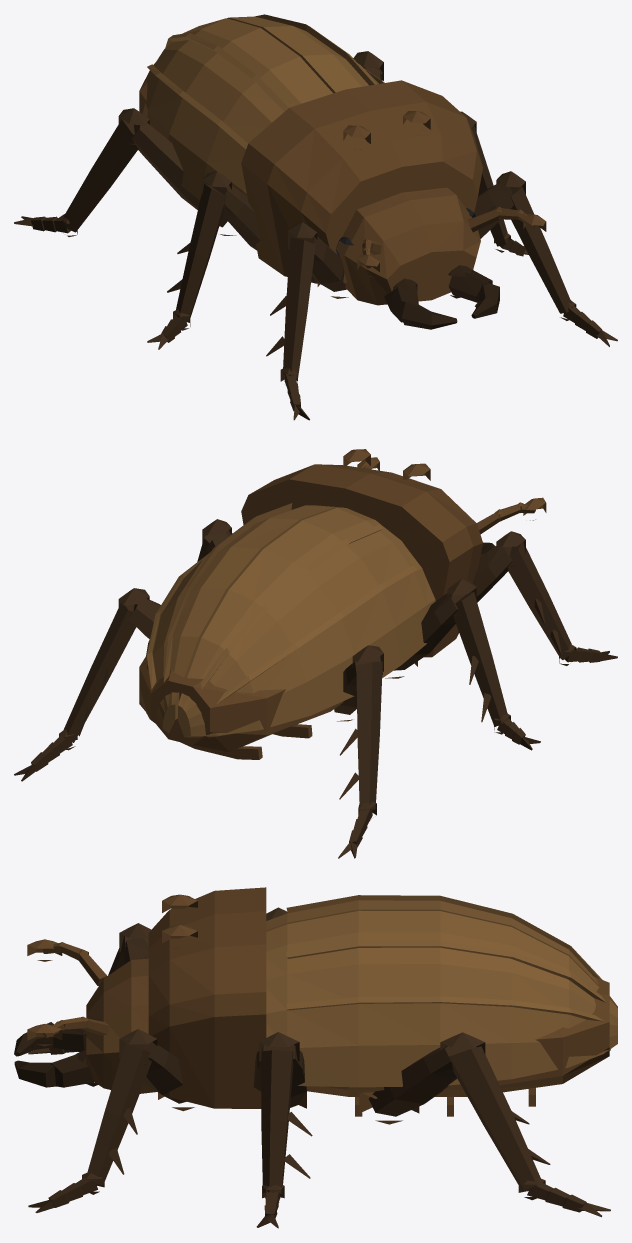
Rendered from worker_beetle.glb.
3 renders of one model, top to bottom at view 1: azimuth 30°, elevation 25°; view 2: azimuth 150°, elevation 25°; view 3: azimuth 270°, elevation 25°, orthographic. The views are drawn at different scales.
Visible parts, largest first — view 1: ThoraxCore, BeetlePlate_01, HeadBase001, BeetlePlate_00, Tibia001, Tibia003, Tibia005, Tibia000, Femur005, Femur003, Femur001, Femur000 (+6 smaller); view 2: BeetlePlate_01, ThoraxCore, BeetlePlate_00, BeetleBodyInner, Tibia005, Tibia003, Tibia004, Tibia001, Femur003, Femur001, Femur005, Femur004 (+2 smaller); view 3: BeetlePlate_00, ThoraxCore, HeadBase001, BeetlePlate_01, BeetleBodyInner, Tibia004, Tibia002, Tibia000, Femur004, Femur000, Femur002, MandibleBase002 (+9 smaller).
Boxes of the visible parts, bbox=[...] form: ThoraxCore: bbox=[241, 80, 482, 283]; BeetlePlate_01: bbox=[142, 18, 332, 200]; HeadBase001: bbox=[337, 187, 480, 305]; BeetlePlate_00: bbox=[227, 14, 384, 93]; Tibia001: bbox=[266, 237, 315, 378]; Tibia003: bbox=[167, 183, 226, 321]; Tibia005: bbox=[61, 119, 138, 232]; Tibia000: bbox=[510, 186, 573, 313]; Femur005: bbox=[132, 123, 227, 227]; Femur003: bbox=[209, 185, 260, 250]; Femur001: bbox=[292, 234, 346, 291]; Femur000: bbox=[474, 182, 513, 238]; BeetlePlate_01: bbox=[178, 508, 435, 737]; ThoraxCore: bbox=[241, 449, 482, 657]; BeetlePlate_00: bbox=[139, 503, 344, 733]; BeetleBodyInner: bbox=[139, 655, 343, 751]; Tibia005: bbox=[339, 661, 382, 810]; Tibia003: bbox=[453, 591, 508, 726]; Tibia004: bbox=[63, 603, 136, 742]; Tibia001: bbox=[508, 542, 571, 659]; Femur003: bbox=[394, 593, 465, 670]; Femur001: bbox=[473, 544, 512, 602]; Femur005: bbox=[334, 656, 382, 714]; Femur004: bbox=[128, 598, 160, 639]; BeetlePlate_00: bbox=[266, 910, 617, 1087]; ThoraxCore: bbox=[148, 887, 266, 1108]; HeadBase001: bbox=[86, 958, 156, 1093]; BeetlePlate_01: bbox=[266, 895, 617, 1007]; BeetleBodyInner: bbox=[307, 976, 609, 1096]; Tibia004: bbox=[449, 1046, 550, 1191]; Tibia002: bbox=[261, 1050, 312, 1193]; Tibia000: bbox=[85, 1044, 151, 1185]; Femur004: bbox=[369, 1045, 476, 1116]; Femur000: bbox=[125, 1042, 186, 1103]; Femur002: bbox=[254, 1045, 306, 1107]; MandibleBase002: bbox=[51, 1054, 94, 1087].
Bounding box in the file's own units: 2.68 × 1.41 × 3.49.
